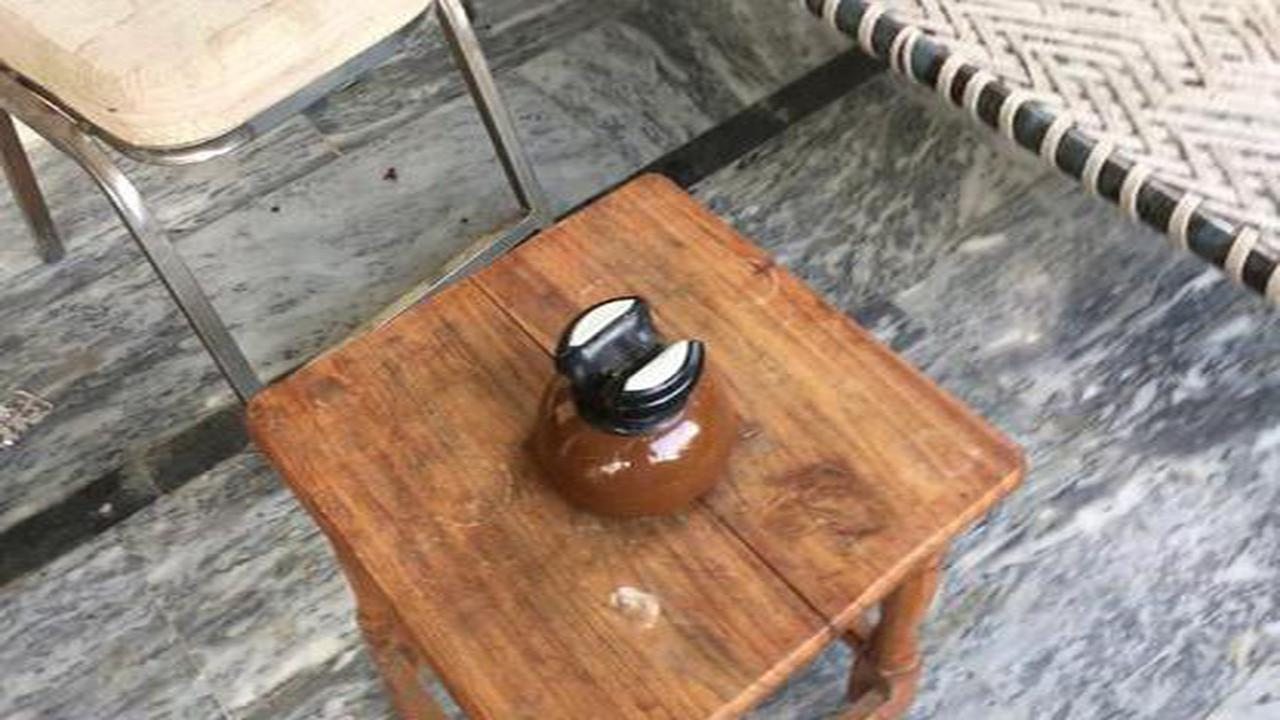insulator_pin: (490, 281, 767, 539)
